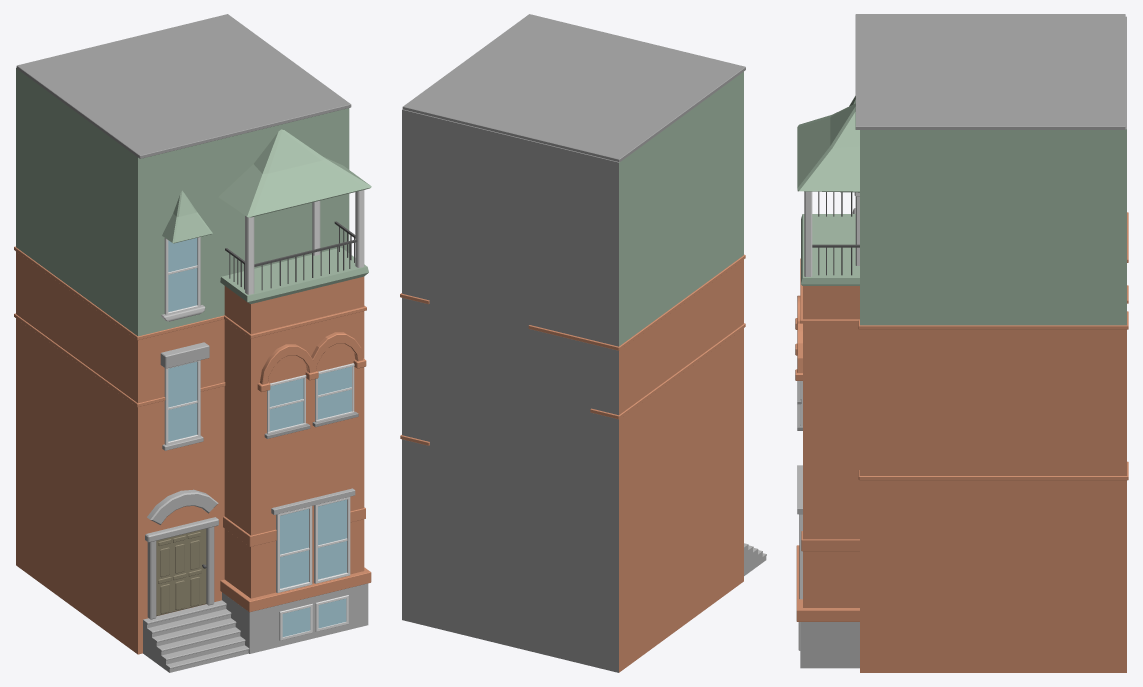
File: BolunHouse1.fbx
3 views of the same model, side by side, from view 1: azimuth 30°, elevation 25°; view 2: azimuth 150°, elevation 25°; view 3: azimuth 270°, elevation 25° (orthographic). The views are drawn at different scales.
Parts seen in each view (by area): view 1: pCube389; view 2: pCube389; view 3: pCube389.
Boxes of the visible parts, x1,y1,x2,y2 form: pCube389: [14, 14, 371, 672]; pCube389: [400, 14, 766, 672]; pCube389: [795, 14, 1128, 672].
Bounding box in the file's own units: 5.06 × 11.3 × 6.25.
